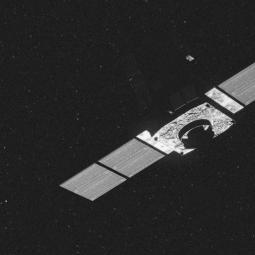soho: (116, 24, 242, 177)
